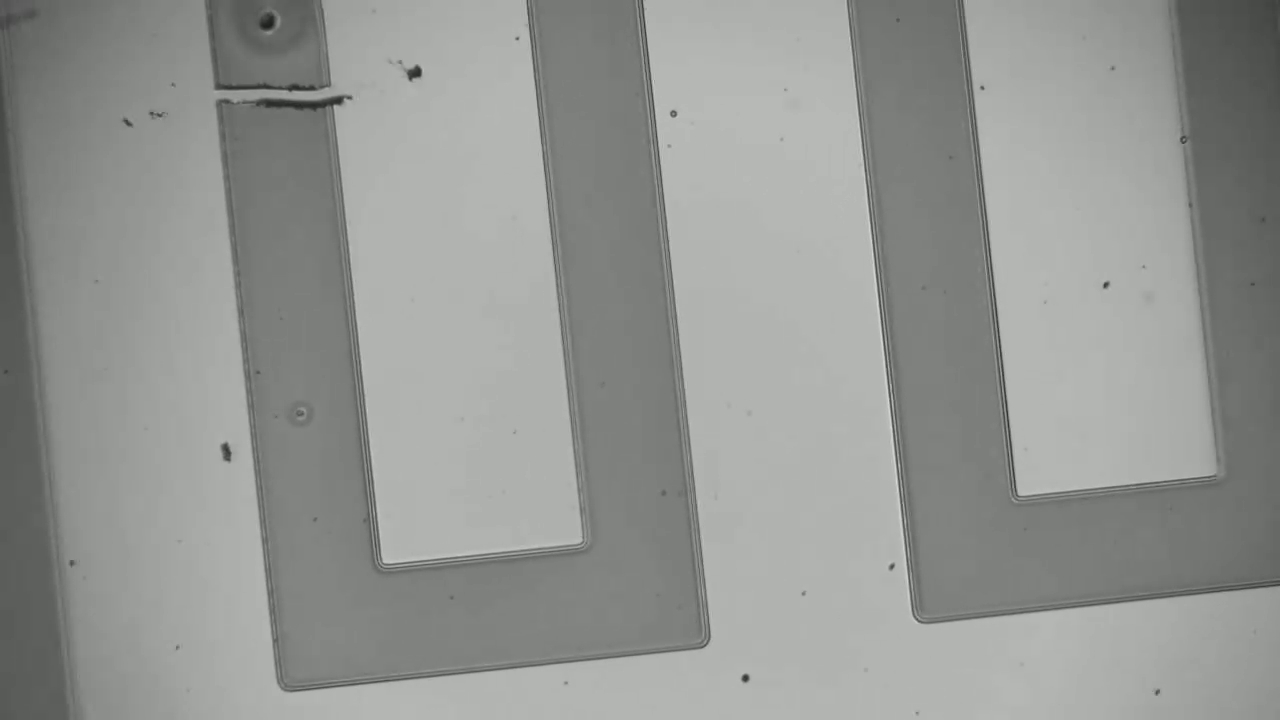Short_circuit: (190, 62, 371, 139)
